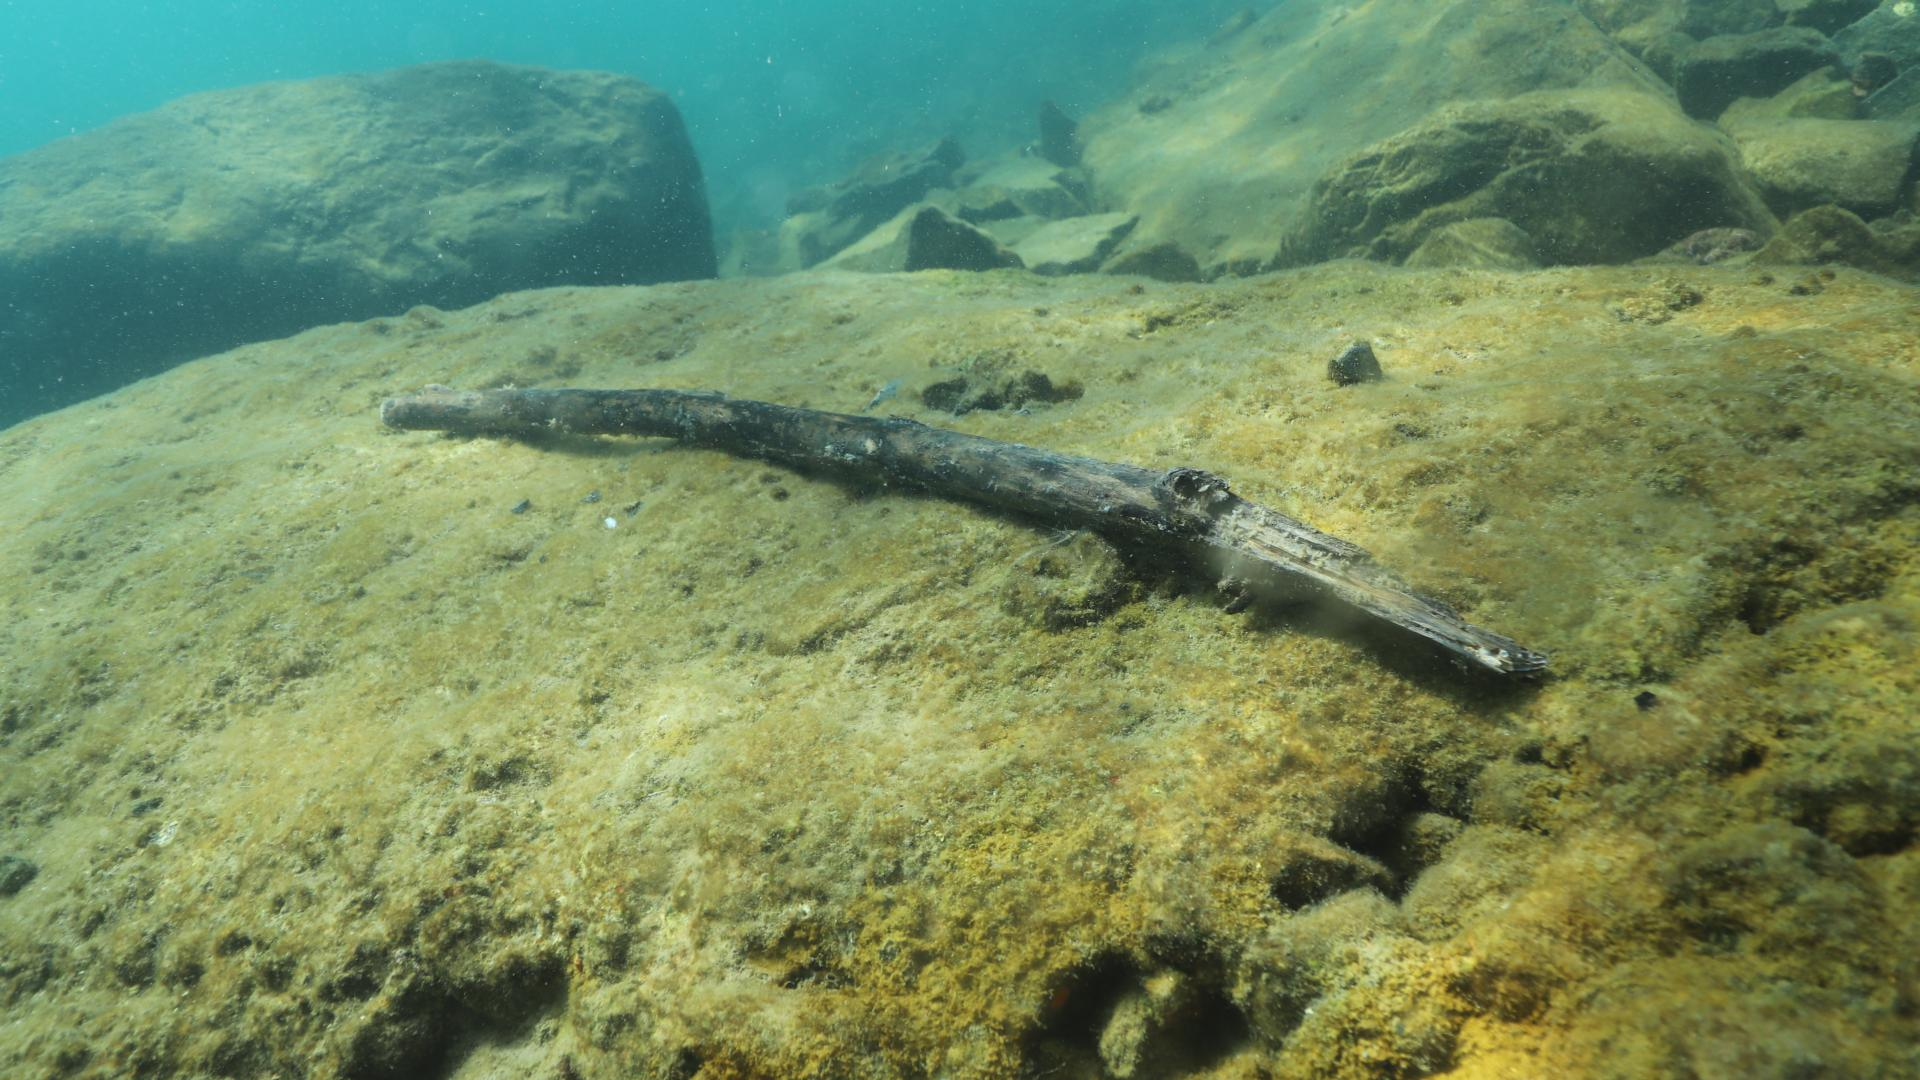wood: (378, 385, 1547, 676)
